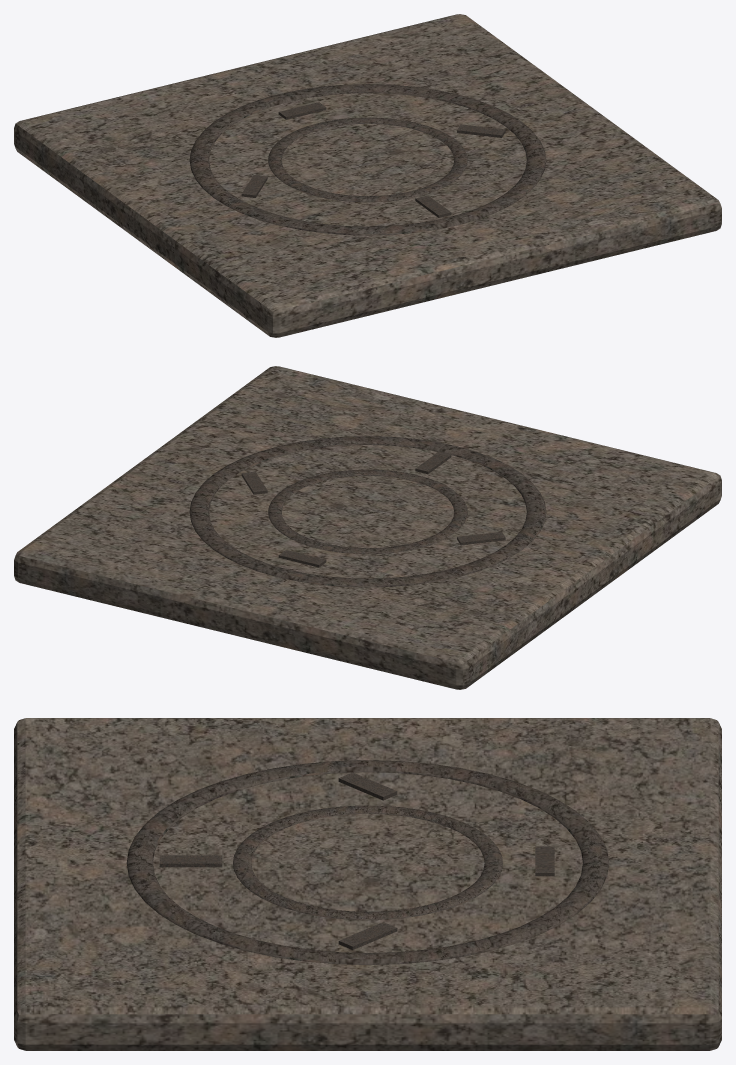
File: pressure_plate.glb
3 views of the same model, one above another, from view 1: azimuth 30°, elevation 25°; view 2: azimuth 150°, elevation 25°; view 3: azimuth 270°, elevation 25° (orthographic). The views are drawn at different scales.
Visible parts, largest first — view 1: pressure_plate; view 2: pressure_plate; view 3: pressure_plate.
Part boxes in pixels (x1=…): pressure_plate: x1=14, y1=14, x2=721, y2=337; pressure_plate: x1=14, y1=366, x2=721, y2=689; pressure_plate: x1=14, y1=718, x2=721, y2=1050.
Bounding box in the file's own units: 1.8 × 0.1303 × 1.8.
2 materials, 2 textured.
